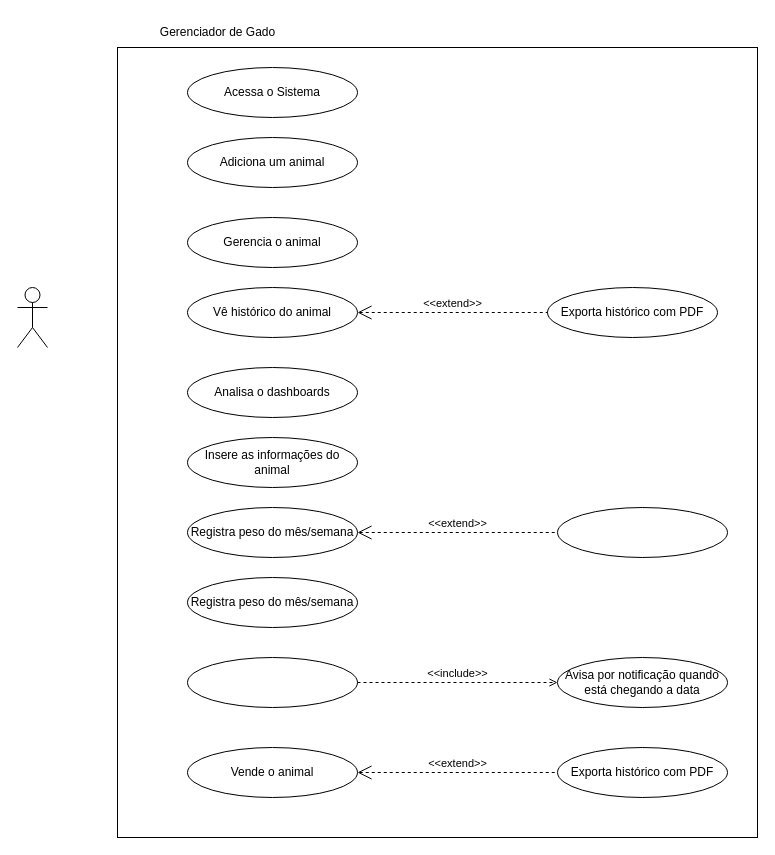
Some shapes in this 775 by 855 pixel diagram are drawn without their labels. Here are the shapes that lost their labels. From the top down, the centre of each, then its label:
At pixel 32 317: "Actor".
At pixel 642 532: "Muda de lote".
At pixel 272 682: "Coloca a data de prenhez".
